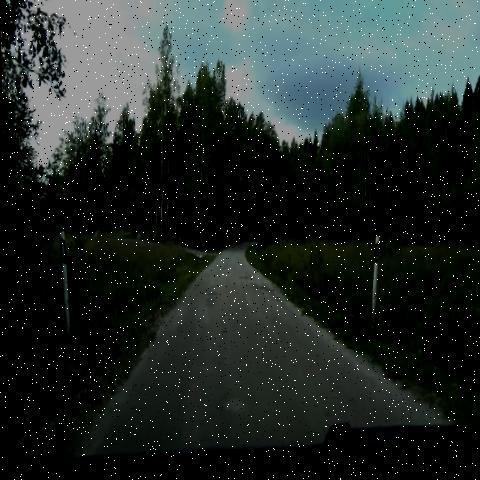pothole: (210, 380, 258, 446), (240, 275, 276, 312), (200, 278, 221, 318), (230, 272, 255, 291)
